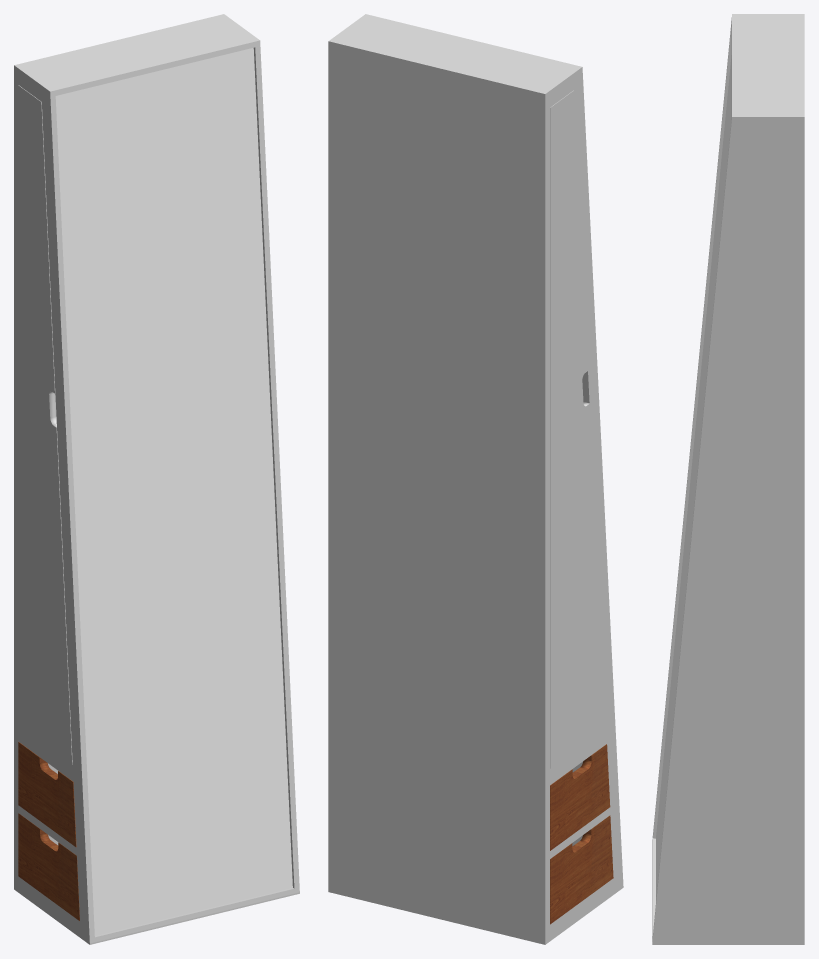
The model's file is nala.glb.
3 renders of one model, left to right at view 1: azimuth 30°, elevation 25°; view 2: azimuth 150°, elevation 25°; view 3: azimuth 270°, elevation 25°, orthographic. The views are drawn at different scales.
Parts seen in each view (by area): view 1: G-__555645, G-__555780, G-__555654, G-OuterShell, G-__555690, G-__555672; view 2: G-OuterShell, G-__555780, G-__555654, G-__555690, G-__555672; view 3: G-OuterShell, G-__555654, G-__555645.
Part boxes in pixels (x1,y1,x2,y2): G-__555645: [55, 48, 292, 935]; G-__555780: [18, 85, 72, 764]; G-__555654: [41, 34, 299, 944]; G-OuterShell: [14, 14, 250, 937]; G-__555690: [18, 813, 79, 920]; G-__555672: [18, 742, 76, 847]; G-OuterShell: [328, 21, 613, 944]; G-__555780: [550, 90, 606, 768]; G-__555654: [356, 14, 623, 894]; G-__555690: [550, 815, 613, 924]; G-__555672: [550, 744, 610, 850]; G-OuterShell: [670, 14, 804, 944]; G-__555654: [652, 14, 750, 944]; G-__555645: [656, 55, 731, 901].
Bounding box in the file's own units: 0.4009 × 1.5 × 0.25.
4 materials, 1 textured.
